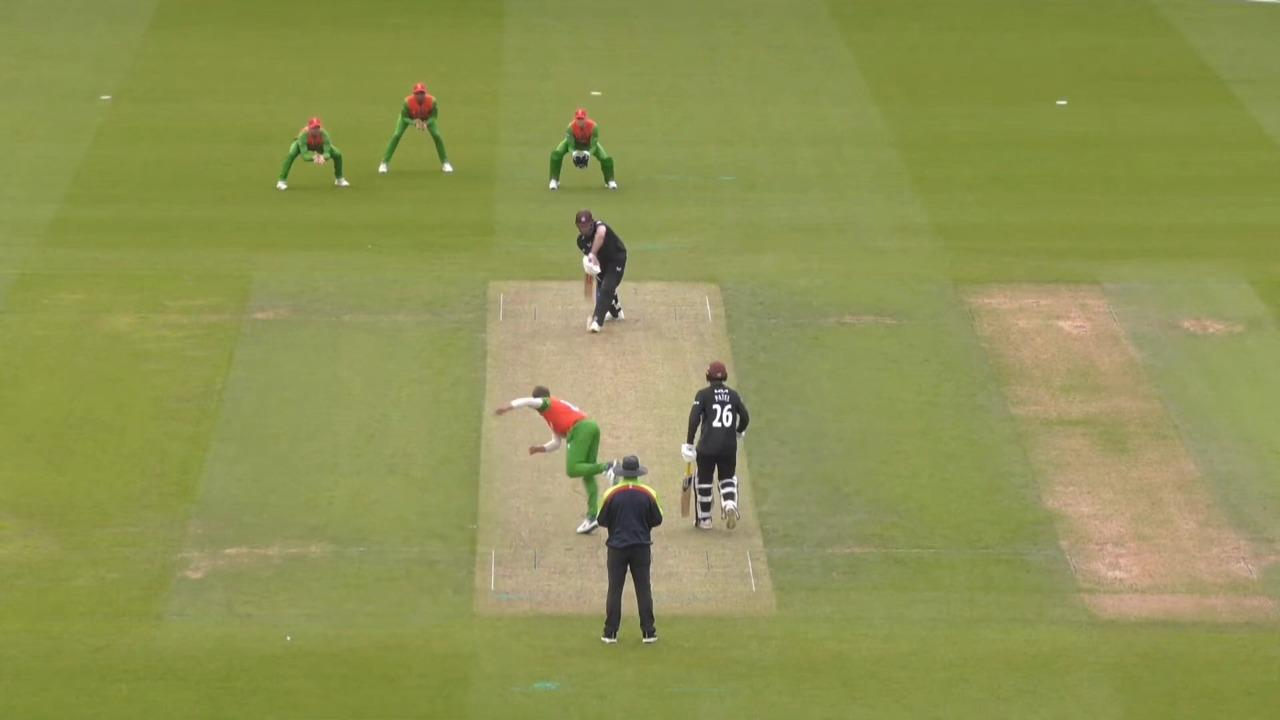sports ball: (586, 315, 592, 331)
